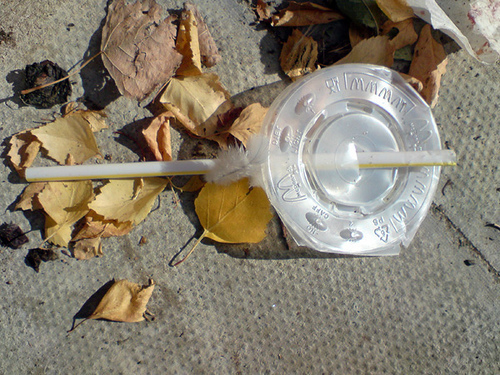litter: (254, 63, 456, 254), (23, 162, 250, 178)
